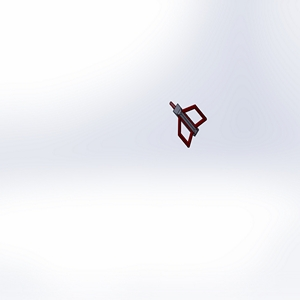submarine: (157, 90, 219, 162)
